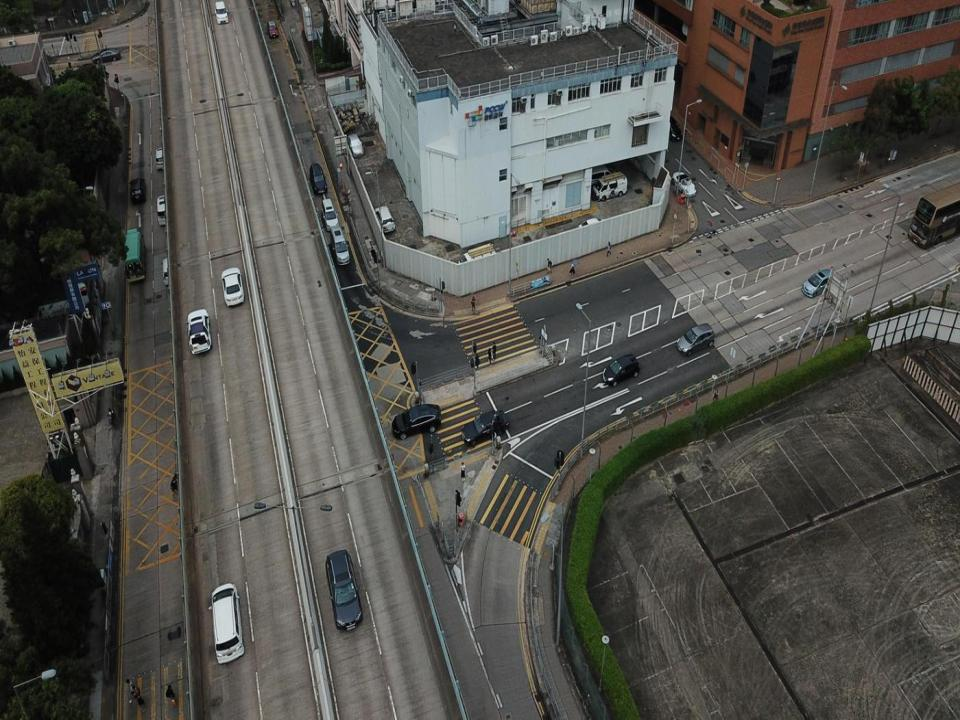bus: (907, 182, 960, 249), (124, 228, 146, 283)
car: (391, 404, 441, 439), (461, 410, 509, 445), (676, 322, 714, 356), (185, 309, 213, 355), (602, 354, 640, 386), (170, 468, 209, 495), (802, 268, 834, 298), (220, 268, 244, 307), (672, 171, 696, 196), (661, 115, 682, 143), (92, 47, 120, 64), (347, 134, 363, 158), (154, 147, 168, 169), (268, 20, 278, 38)
van: (326, 549, 362, 631), (209, 583, 244, 663), (592, 171, 627, 202), (458, 245, 496, 273), (330, 227, 350, 265), (586, 165, 616, 189), (309, 162, 327, 194), (375, 205, 395, 232), (322, 198, 338, 231), (155, 195, 172, 226), (161, 256, 178, 285), (129, 178, 146, 204), (215, 1, 228, 25)
